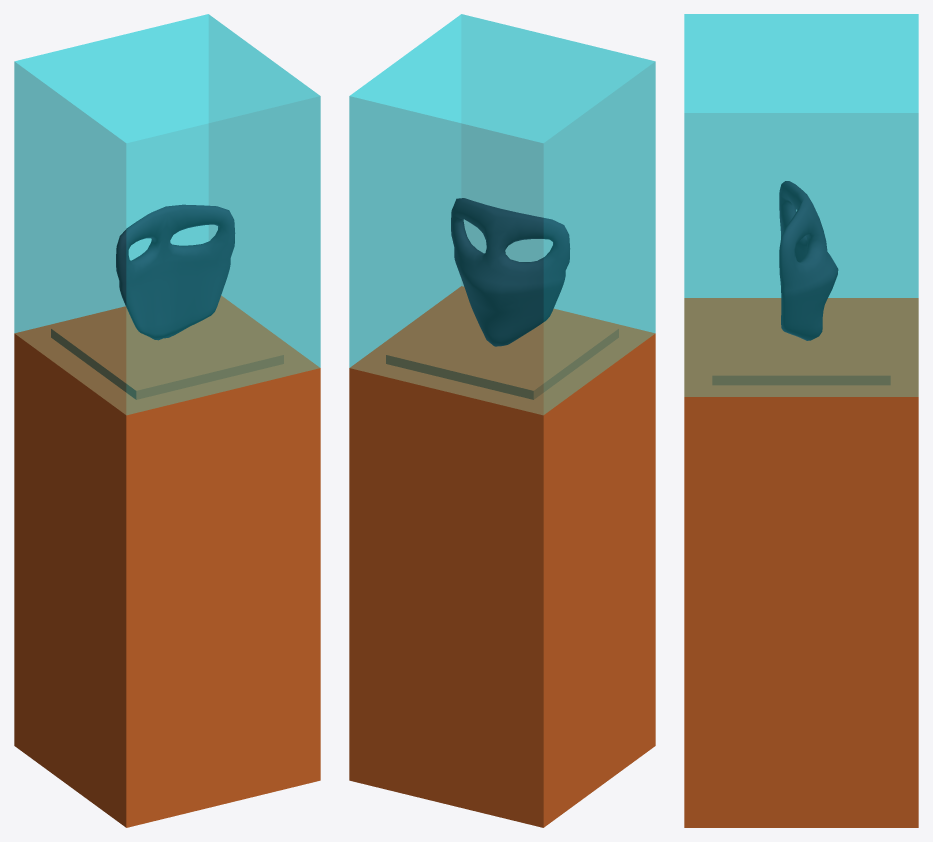
The model's file is Mask.fbx.
3 views of the same model, side by side, from view 1: azimuth 30°, elevation 25°; view 2: azimuth 150°, elevation 25°; view 3: azimuth 270°, elevation 25° (orthographic). The views are drawn at different scales.
Visible parts, largest first — view 1: Cage.001, Mask; view 2: Cage.001, Mask; view 3: Cage.001, Mask.
Part boxes in pixels (bbox=[...]): Cage.001: bbox=[14, 14, 320, 827]; Mask: bbox=[116, 204, 234, 340]; Cage.001: bbox=[349, 14, 655, 827]; Mask: bbox=[451, 198, 569, 346]; Cage.001: bbox=[684, 14, 918, 827]; Mask: bbox=[779, 181, 838, 340].
Size of the model in its own units: 237 by 799 by 237.
